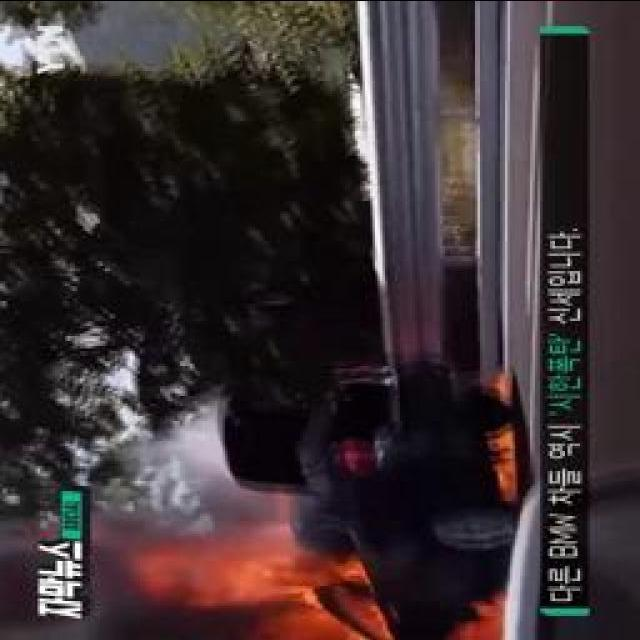Fire: (182, 539, 370, 638), (456, 578, 506, 640)
